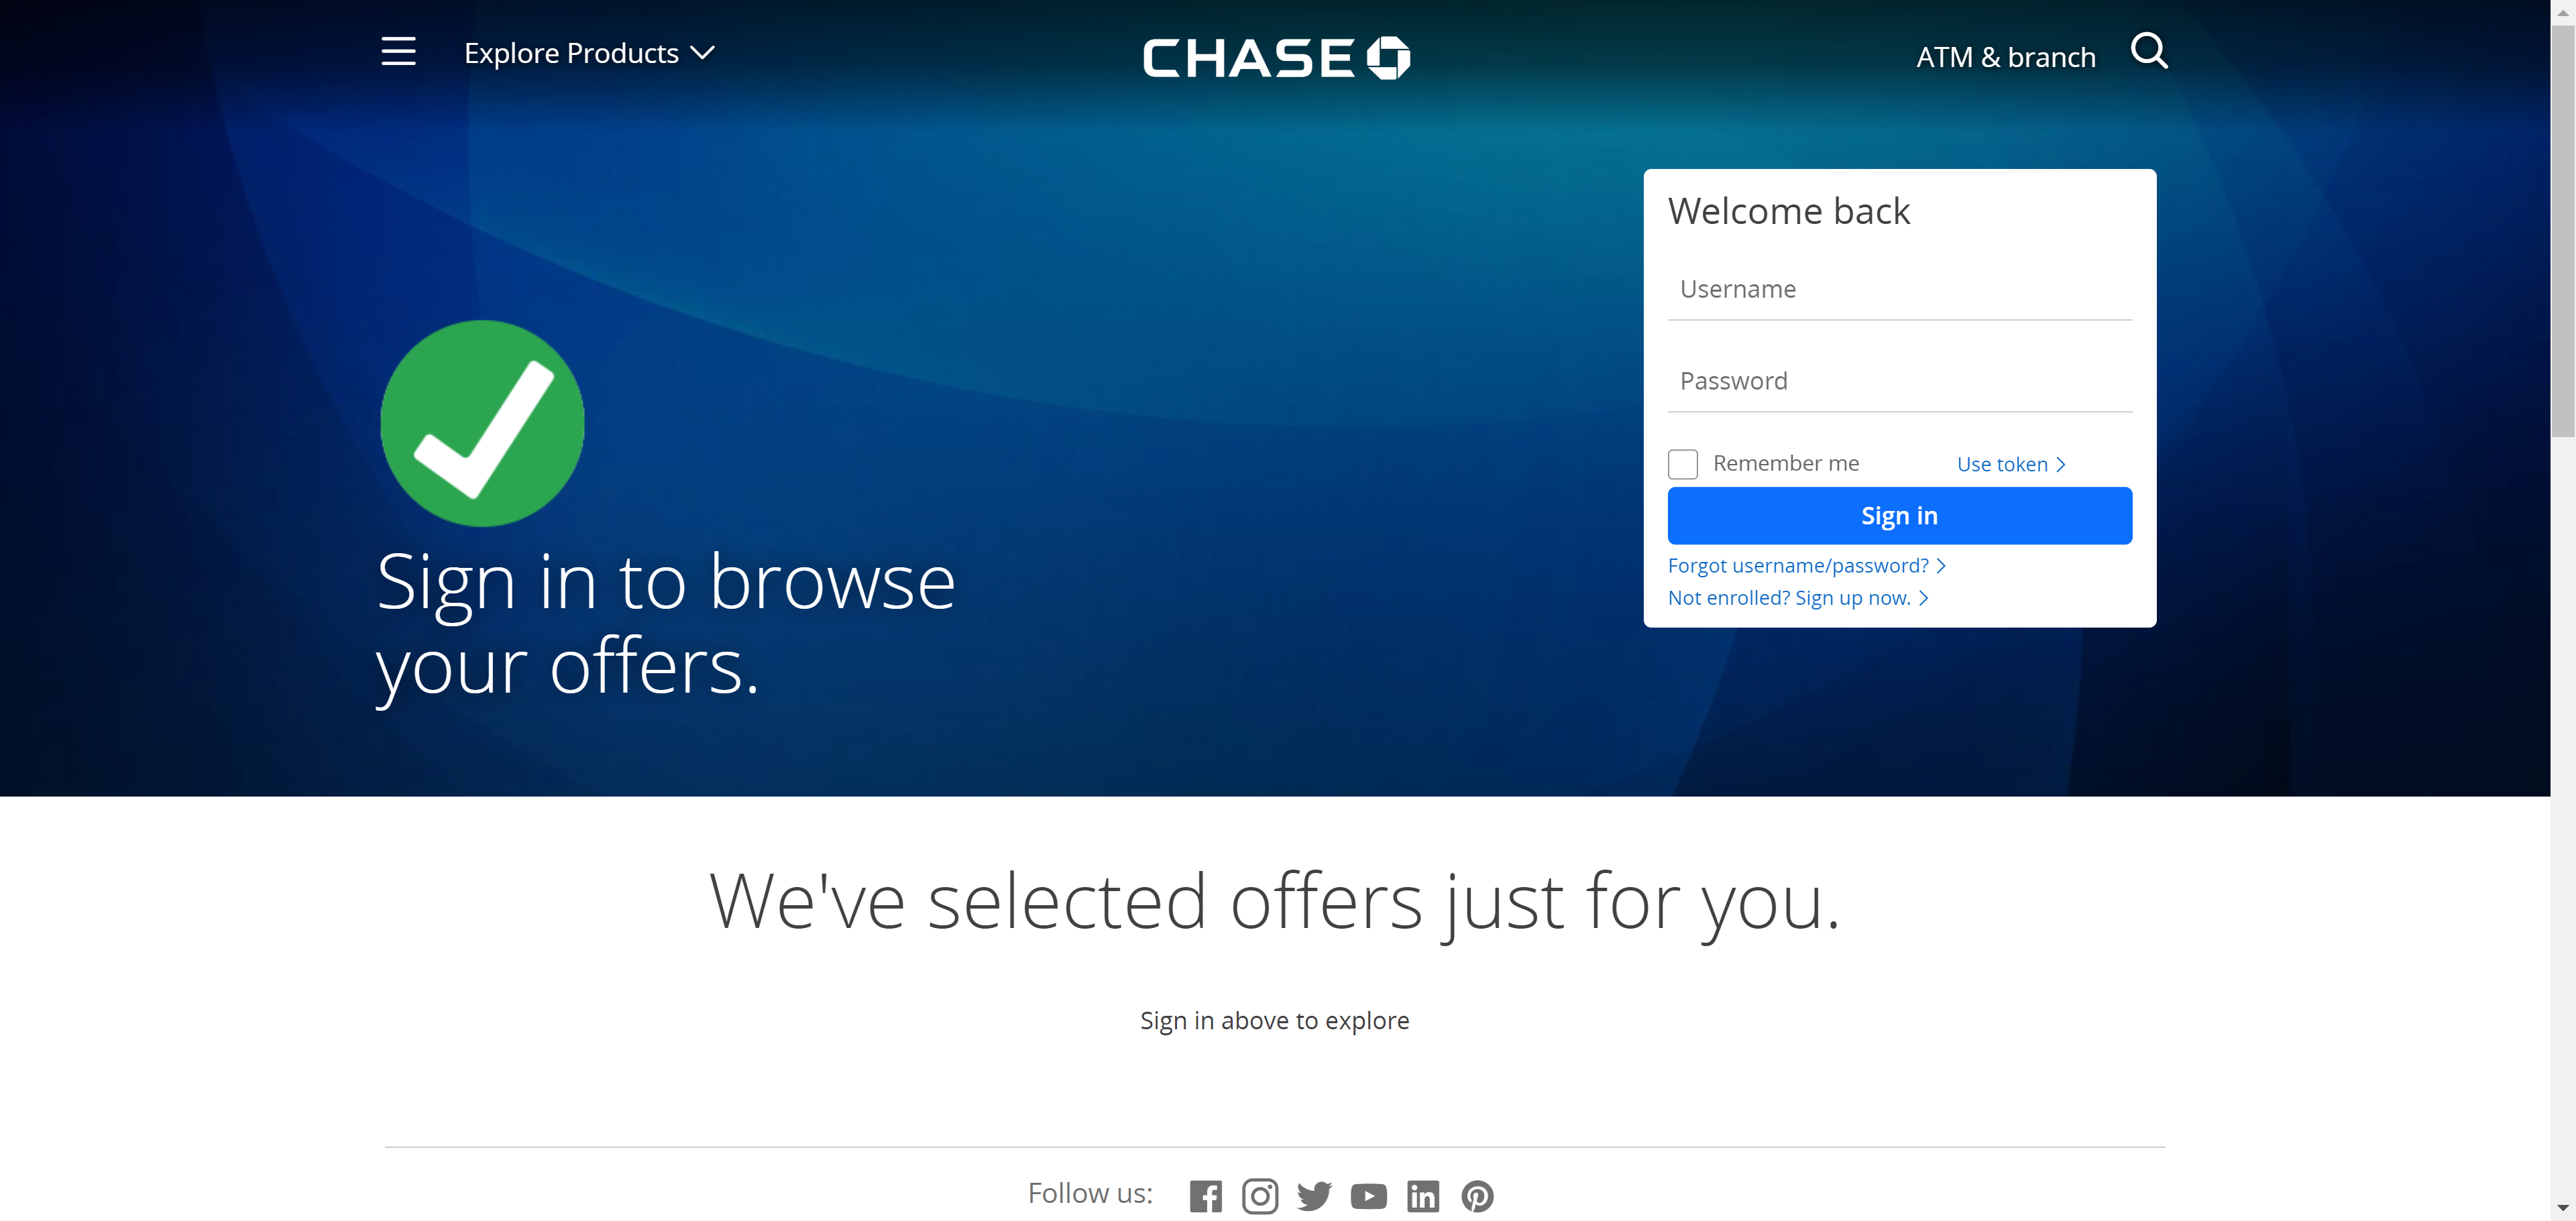login_button: (1667, 488, 2134, 546)
login_form: (1661, 270, 2141, 552)
